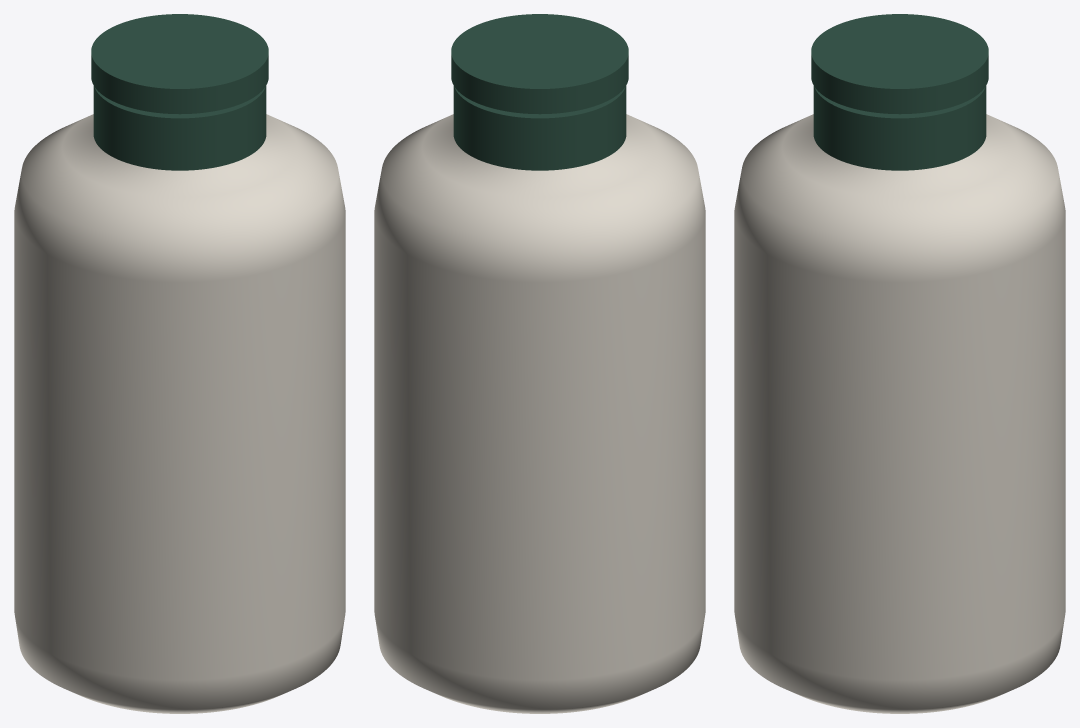
Rendered from sk-cleanser-150.glb.
3 views of the same model, side by side, from view 1: azimuth 30°, elevation 25°; view 2: azimuth 150°, elevation 25°; view 3: azimuth 270°, elevation 25° (orthographic).
Parts seen in each view (by area): view 1: Bottle_Body, Flip_Lid, Cap_Base; view 2: Bottle_Body, Flip_Lid, Cap_Base; view 3: Bottle_Body, Flip_Lid, Cap_Base.
Part boxes in pixels (bbox=[...]): Bottle_Body: bbox=[14, 114, 345, 713]; Flip_Lid: bbox=[91, 14, 268, 114]; Cap_Base: bbox=[93, 86, 266, 170]; Bottle_Body: bbox=[374, 114, 705, 713]; Flip_Lid: bbox=[451, 14, 628, 114]; Cap_Base: bbox=[453, 86, 626, 170]; Bottle_Body: bbox=[734, 114, 1065, 713]; Flip_Lid: bbox=[811, 14, 988, 114]; Cap_Base: bbox=[813, 86, 986, 170].
Size of the model in its own units: 1.44 by 2.89 by 1.44.
